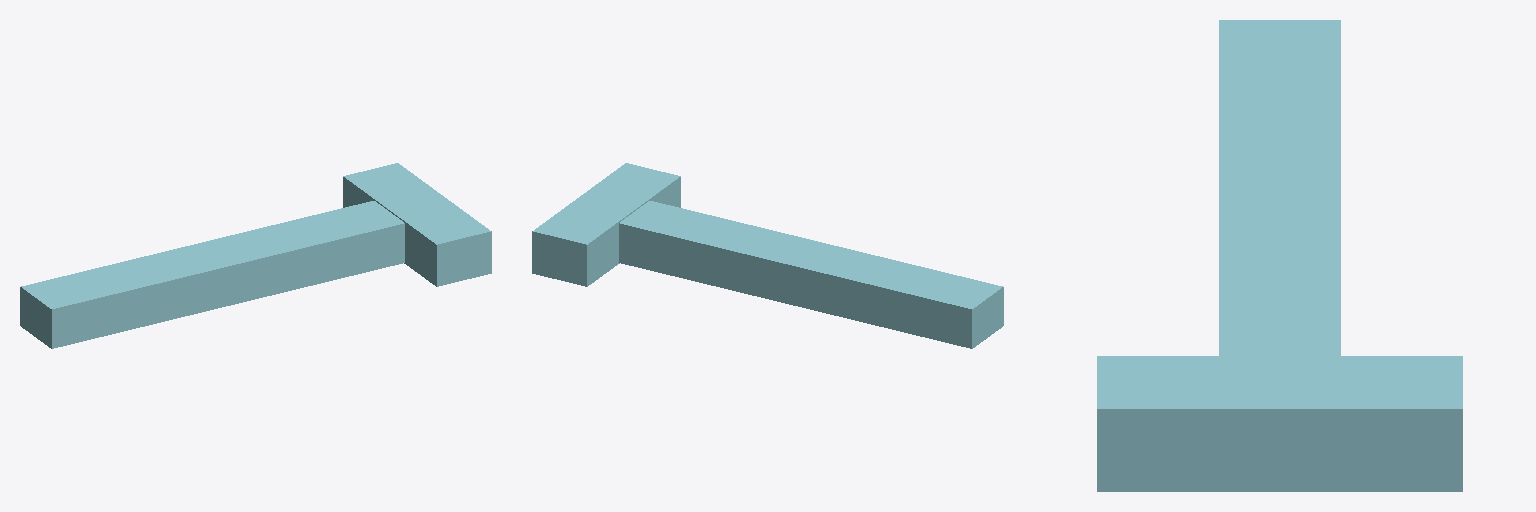
URDF robot description (cuboid_hammer_v013):
<?xml version="1.0"?>
<robot name="cuboid_hammer_v013">

  <link name="cuboid_hammer_v013">
    <!-- Handle -->
    <visual>
      <origin xyz="0 0 0" rpy="0 0 0"/>
      <geometry>
        <box size="0.23355482285119172 0.03567796418212827 0.024964703104910814"/>
      </geometry>
      <material name="material">
        <color rgba="0.639 0.847 0.882 1.0"/>
      </material>
    </visual>
    <collision>
      <origin xyz="0 0 0" rpy="0 0 0"/>
      <geometry>
        <box size="0.23355482285119172 0.03567796418212827 0.024964703104910814"/>
      </geometry>
    </collision>

    <!-- Head -->
    <visual>
      <origin xyz="0.13490514865439726 0 0" rpy="0 0 0"/>
      <geometry>
        <box size="0.03625547445760282 0.10698142692662242 0.026678916796308155"/>
      </geometry>
      <material name="material">
        <color rgba="0.639 0.847 0.882 1.0"/>
      </material>
    </visual>
    <collision>
      <origin xyz="0.13490514865439726 0 0" rpy="0 0 0"/>
      <geometry>
        <box size="0.03625547445760282 0.10698142692662242 0.026678916796308155"/>
      </geometry>
    </collision>

    <inertial>
      <density value="400.0"/>
    </inertial>
  </link>

</robot>

--- What the picture shows (computed from the rendered views, not written in the file) ---
Views: 3 orthographic renders of the robot side by side, from view 1: azimuth 30°, elevation 25°; view 2: azimuth 150°, elevation 25°; view 3: azimuth 270°, elevation 25°.
Robot: cuboid_hammer_v013 — 1 links, 0 joints (none); root link cuboid_hammer_v013; default pose: all joints at 0.
Links seen in each view (by area): view 1: cuboid_hammer_v013; view 2: cuboid_hammer_v013; view 3: cuboid_hammer_v013.
Link boxes in pixels (<box>): cuboid_hammer_v013: <box>20,163,491,348</box>; cuboid_hammer_v013: <box>532,163,1003,348</box>; cuboid_hammer_v013: <box>1097,20,1462,491</box>.
Bounding box of the posed robot: 0.2698 × 0.107 × 0.0267 m (x, y, z).
Geometry: primitives only (box / cylinder / sphere), no mesh files.
